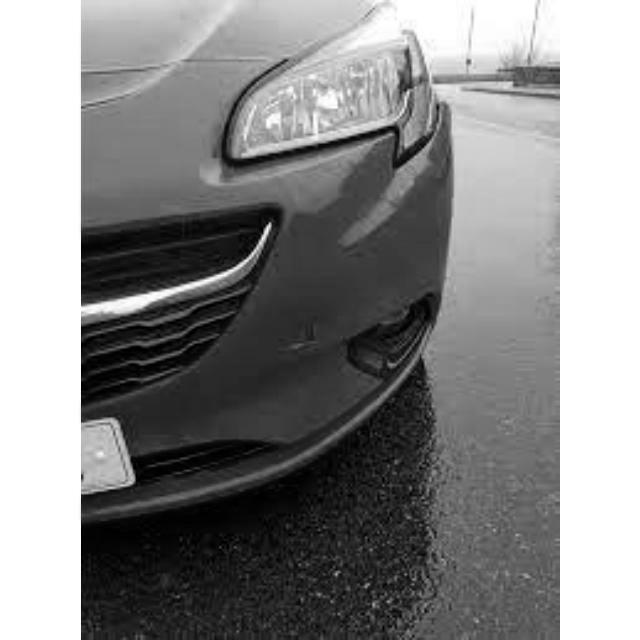front-bumper-dent: (80, 131, 472, 514)
